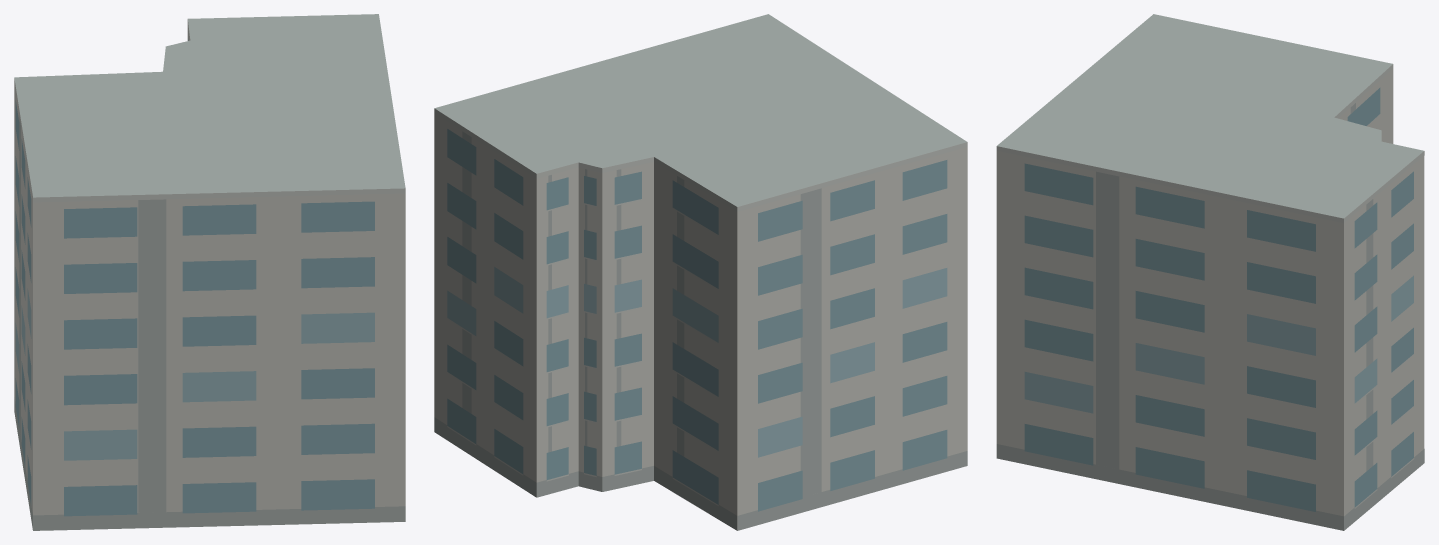
File: survey-upis-32893404.glb
3 renders of one model, left to right at view 1: azimuth 30°, elevation 25°; view 2: azimuth 150°, elevation 25°; view 3: azimuth 270°, elevation 25°, orthographic. The views are drawn at different scales.
Visible parts, largest first — view 1: survey-upis-32893404.tmp; view 2: survey-upis-32893404.tmp; view 3: survey-upis-32893404.tmp.
Part boxes in pixels (bbox=[...]): survey-upis-32893404.tmp: bbox=[14, 14, 405, 530]; survey-upis-32893404.tmp: bbox=[434, 14, 967, 530]; survey-upis-32893404.tmp: bbox=[996, 14, 1424, 530].
Bounding box in the file's own units: 22.2 × 15.8 × 19.62.
